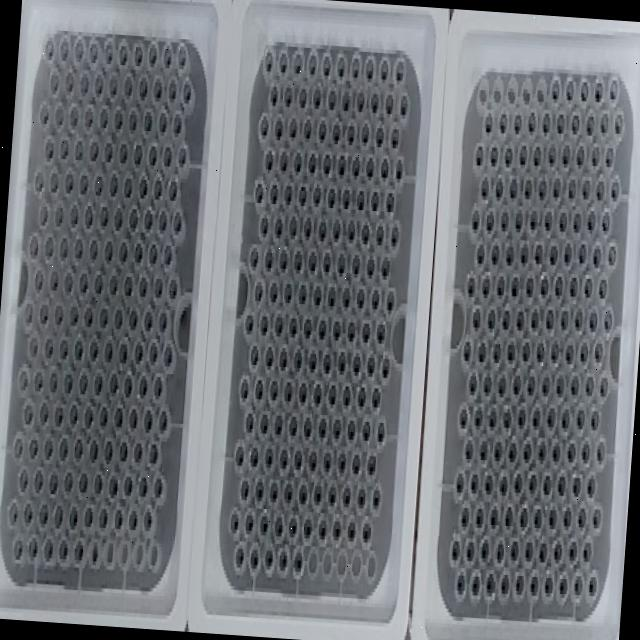pfs: (457, 403, 470, 434), (500, 403, 513, 434), (16, 366, 29, 396), (73, 534, 85, 565), (497, 471, 509, 502), (572, 569, 584, 600), (454, 568, 466, 598), (176, 41, 187, 72), (375, 315, 386, 346), (379, 350, 390, 381), (234, 439, 245, 470), (278, 442, 289, 473), (248, 543, 259, 574), (264, 544, 275, 575), (559, 407, 570, 438), (117, 338, 129, 366), (58, 32, 70, 60), (550, 173, 562, 201), (557, 571, 569, 599), (238, 371, 249, 401), (549, 338, 560, 368), (315, 315, 327, 342), (228, 507, 240, 534), (88, 38, 100, 65), (608, 78, 620, 105), (603, 143, 615, 170), (471, 405, 483, 432), (478, 535, 490, 562), (513, 572, 525, 599), (158, 307, 168, 338), (389, 121, 399, 152), (161, 43, 172, 71), (107, 70, 118, 98), (107, 368, 118, 396), (127, 404, 138, 432), (73, 335, 84, 363), (27, 534, 38, 562), (368, 184, 379, 212), (316, 215, 327, 243), (253, 375, 264, 403), (292, 549, 303, 577), (449, 536, 460, 564), (542, 570, 553, 598), (274, 511, 284, 541), (576, 501, 586, 531), (172, 209, 183, 236), (32, 466, 43, 493), (6, 495, 17, 522), (263, 47, 274, 74), (306, 50, 317, 77), (335, 52, 346, 79), (258, 112, 269, 139), (272, 212, 283, 239), (262, 246, 273, 273), (292, 248, 303, 275), (268, 277, 279, 304), (258, 311, 269, 338), (365, 349, 376, 376), (336, 347, 347, 374), (292, 344, 303, 371), (258, 410, 269, 437), (350, 447, 361, 474), (254, 475, 265, 502), (233, 542, 244, 569), (550, 74, 561, 101), (594, 173, 605, 200), (564, 339, 575, 366), (554, 373, 565, 400), (530, 405, 541, 432), (550, 437, 561, 464), (482, 470, 493, 497), (484, 570, 495, 597), (541, 471, 552, 498), (546, 502, 557, 529), (552, 537, 563, 564), (567, 538, 578, 565), (586, 570, 597, 597), (61, 369, 73, 393), (377, 58, 389, 82), (515, 404, 527, 428), (137, 72, 147, 100), (163, 341, 173, 369), (69, 201, 79, 229), (107, 471, 117, 499), (389, 220, 399, 248), (268, 376, 278, 404), (283, 377, 293, 405), (311, 379, 321, 407), (356, 382, 366, 410), (244, 508, 254, 536), (331, 514, 341, 542), (511, 369, 521, 397), (536, 436, 546, 464), (353, 88, 365, 111), (152, 74, 162, 101), (92, 268, 102, 295), (18, 465, 28, 492), (292, 49, 302, 76), (321, 51, 331, 78), (350, 53, 360, 80), (394, 56, 404, 83), (326, 86, 336, 113), (365, 154, 375, 181), (254, 177, 264, 204), (283, 179, 293, 206), (384, 285, 394, 312), (311, 280, 321, 307), (288, 313, 298, 340), (264, 342, 274, 369), (371, 483, 381, 510), (361, 517, 371, 544), (575, 141, 585, 168), (490, 238, 500, 265), (491, 337, 501, 364), (575, 405, 585, 432), (595, 437, 605, 464), (454, 468, 464, 495), (474, 504, 484, 531), (513, 469, 523, 496), (499, 571, 509, 598), (522, 538, 532, 565), (592, 502, 602, 529), (137, 374, 148, 398), (132, 439, 143, 463), (87, 336, 98, 360), (67, 301, 78, 325), (38, 302, 49, 326), (52, 502, 63, 526), (263, 146, 274, 170), (326, 185, 337, 209), (346, 217, 357, 241), (321, 250, 332, 274), (369, 284, 380, 308), (243, 313, 254, 337), (331, 415, 342, 439), (355, 485, 366, 509), (326, 483, 337, 507), (316, 517, 327, 541), (569, 109, 580, 133), (492, 176, 503, 200), (578, 340, 589, 364), (486, 405, 497, 429), (526, 473, 537, 497), (571, 473, 582, 497), (518, 240, 529, 263), (63, 468, 72, 496), (322, 150, 331, 178), (375, 219, 384, 247), (259, 509, 268, 537), (103, 36, 112, 63), (167, 75, 176, 102), (172, 109, 181, 136), (49, 166, 58, 193), (143, 505, 152, 532), (90, 539, 99, 566), (399, 91, 408, 118), (269, 178, 278, 205), (342, 382, 351, 409), (376, 418, 385, 445), (264, 441, 273, 468), (547, 139, 556, 166), (501, 304, 510, 331), (479, 436, 488, 463), (469, 469, 478, 496), (519, 504, 528, 531), (533, 505, 542, 532), (44, 38, 54, 62), (117, 40, 127, 64), (132, 41, 142, 65), (181, 79, 191, 103), (123, 75, 133, 99), (54, 104, 64, 128), (152, 176, 162, 200), (137, 175, 147, 199), (58, 135, 68, 159), (33, 168, 43, 192), (148, 340, 158, 364), (44, 234, 54, 258), (48, 268, 58, 292), (133, 339, 143, 363), (152, 375, 162, 399), (147, 440, 157, 464), (122, 373, 132, 397), (103, 337, 113, 361), (113, 403, 123, 427), (97, 505, 107, 529), (78, 370, 88, 394), (58, 437, 68, 461), (38, 401, 48, 425), (28, 435, 38, 459), (38, 501, 48, 525), (58, 536, 68, 560), (282, 82, 292, 106), (379, 154, 389, 178), (341, 186, 351, 210), (385, 189, 395, 213), (332, 216, 342, 240), (248, 245, 258, 269), (278, 247, 288, 271), (326, 284, 336, 308), (351, 351, 361, 375), (307, 348, 317, 372), (249, 344, 259, 368), (298, 382, 308, 406), (317, 414, 327, 438), (244, 409, 254, 433), (298, 481, 308, 505), (239, 477, 249, 501), (346, 519, 356, 543), (527, 110, 537, 134), (474, 144, 484, 168), (522, 175, 532, 199), (495, 272, 505, 296), (538, 272, 548, 296), (559, 307, 569, 331), (515, 308, 525, 332), (535, 340, 545, 364), (546, 406, 556, 430), (580, 439, 590, 463), (507, 438, 517, 462), (493, 440, 503, 464), (464, 438, 474, 462), (488, 505, 498, 529), (509, 537, 519, 561), (538, 539, 548, 563), (582, 539, 592, 563), (529, 573, 539, 597), (38, 103, 49, 124), (81, 404, 92, 425), (73, 137, 83, 160), (128, 206, 138, 229), (48, 471, 58, 494), (375, 124, 385, 147), (332, 316, 342, 339), (360, 318, 370, 341), (283, 480, 293, 503), (545, 307, 555, 330), (465, 538, 475, 561), (470, 572, 480, 595), (466, 273, 475, 298), (109, 269, 117, 297), (278, 48, 288, 70), (307, 448, 317, 470), (148, 42, 157, 66), (94, 73, 103, 97), (79, 72, 88, 96), (65, 67, 74, 91), (49, 70, 58, 94), (83, 103, 92, 127), (143, 110, 152, 134), (177, 144, 186, 168), (168, 177, 177, 201), (148, 241, 157, 265), (148, 142, 157, 166), (79, 171, 88, 195), (109, 173, 118, 197), (123, 174, 132, 198), (133, 240, 142, 264), (138, 275, 147, 299), (153, 272, 162, 296), (118, 239, 127, 263), (99, 203, 108, 227), (39, 203, 48, 227), (28, 233, 37, 257), (23, 301, 32, 325), (59, 235, 68, 259), (103, 238, 112, 262), (138, 473, 147, 497), (123, 472, 132, 496), (103, 437, 112, 461), (153, 474, 162, 498), (113, 506, 122, 530), (93, 371, 102, 395), (78, 469, 87, 493), (93, 470, 102, 494), (83, 504, 92, 528), (74, 438, 83, 462), (44, 436, 53, 460), (13, 434, 22, 458), (13, 537, 22, 561), (365, 57, 374, 81), (385, 90, 393, 117), (298, 183, 307, 207), (356, 187, 365, 211), (308, 249, 317, 273), (337, 251, 346, 275), (365, 253, 374, 277), (380, 254, 389, 278), (341, 285, 350, 309), (322, 349, 331, 373), (278, 346, 287, 370), (327, 384, 336, 408), (361, 417, 370, 441), (303, 416, 312, 440), (337, 450, 346, 474), (366, 452, 375, 476), (342, 484, 351, 508), (313, 482, 322, 506), (269, 479, 278, 503), (303, 516, 312, 540), (74, 37, 83, 61), (565, 78, 574, 102), (579, 79, 588, 103), (594, 80, 603, 104), (542, 111, 551, 135), (490, 145, 499, 169), (503, 142, 512, 166), (610, 177, 619, 201), (567, 174, 576, 198), (480, 175, 489, 199), (471, 209, 480, 233), (543, 207, 552, 231), (558, 208, 567, 232), (592, 245, 601, 269), (481, 271, 490, 295), (510, 273, 519, 297), (569, 274, 578, 298), (574, 309, 583, 333), (486, 306, 495, 330), (472, 305, 481, 329), (462, 338, 471, 362), (482, 371, 491, 395), (522, 439, 531, 463), (459, 503, 468, 527), (587, 474, 596, 498), (563, 507, 572, 531), (98, 107, 108, 128), (158, 111, 168, 132), (113, 307, 123, 328), (98, 306, 108, 327), (360, 122, 370, 143), (297, 282, 307, 303), (498, 111, 508, 132), (528, 209, 538, 230), (468, 373, 478, 394), (133, 141, 142, 164), (123, 274, 132, 297), (63, 270, 72, 293), (79, 271, 88, 294), (54, 403, 63, 426), (370, 89, 379, 112), (312, 85, 321, 108), (279, 147, 288, 170), (312, 181, 321, 204), (303, 214, 312, 237), (274, 311, 283, 334), (303, 314, 312, 337), (614, 113, 623, 136), (518, 144, 527, 167), (500, 208, 509, 231), (601, 208, 610, 231), (530, 305, 539, 328), (495, 539, 504, 562), (58, 338, 68, 358), (32, 370, 42, 390), (28, 336, 38, 356), (23, 404, 33, 424), (555, 112, 565, 132), (594, 341, 604, 361), (566, 442, 576, 462), (103, 139, 112, 161), (270, 82, 279, 104), (586, 111, 595, 133), (557, 472, 566, 494), (65, 170, 73, 194), (94, 172, 102, 196), (74, 236, 82, 260), (89, 237, 97, 261), (119, 438, 127, 462), (274, 116, 282, 140), (303, 115, 311, 139), (332, 120, 340, 144), (347, 121, 355, 145), (361, 222, 369, 246), (289, 213, 297, 237), (351, 252, 359, 276), (254, 279, 262, 303), (372, 387, 380, 411), (278, 548, 286, 572), (484, 110, 492, 134), (572, 209, 580, 233), (525, 274, 533, 298), (599, 276, 607, 300), (604, 307, 612, 331), (504, 506, 512, 530), (113, 108, 122, 129), (163, 245, 172, 266), (83, 305, 92, 326), (89, 439, 98, 460), (53, 303, 62, 324), (23, 503, 32, 524), (288, 117, 297, 138), (356, 286, 365, 307), (346, 419, 355, 440), (288, 415, 297, 436), (322, 452, 331, 473), (599, 111, 608, 132), (591, 145, 600, 166), (549, 245, 558, 266), (505, 245, 514, 266), (570, 373, 579, 394), (497, 375, 506, 396), (590, 409, 599, 430), (341, 87, 349, 110), (394, 156, 402, 179), (337, 152, 345, 175), (347, 317, 355, 340), (582, 176, 590, 199), (478, 340, 486, 363), (144, 210, 153, 230), (118, 143, 127, 163), (54, 204, 63, 224), (128, 507, 137, 527), (99, 406, 108, 426), (43, 539, 52, 559), (351, 156, 360, 176), (307, 153, 316, 173), (293, 152, 302, 172), (249, 447, 258, 467), (288, 515, 297, 535), (563, 243, 572, 263), (585, 375, 594, 395), (541, 375, 550, 395), (526, 374, 535, 394), (69, 105, 78, 124), (283, 281, 292, 300), (513, 112, 522, 131), (514, 208, 523, 227), (163, 146, 171, 167), (143, 309, 151, 330), (69, 506, 77, 527), (69, 403, 77, 424), (318, 119, 326, 140), (562, 143, 570, 164), (538, 179, 546, 200), (509, 177, 517, 198), (587, 210, 595, 231), (554, 276, 562, 297), (600, 375, 608, 396), (507, 341, 515, 362), (522, 339, 530, 360), (159, 211, 167, 231), (90, 141, 98, 161), (45, 138, 53, 158), (168, 277, 176, 297), (114, 208, 122, 228), (84, 206, 92, 226), (34, 271, 42, 291), (159, 410, 167, 430), (144, 409, 152, 429), (44, 337, 52, 357), (260, 215, 268, 235), (533, 145, 541, 165), (486, 210, 494, 230), (608, 246, 616, 266), (578, 244, 586, 264), (589, 310, 597, 330), (129, 308, 137, 327), (274, 414, 282, 433), (476, 243, 484, 262), (50, 371, 57, 392), (299, 87, 306, 108), (534, 244, 541, 265), (129, 109, 136, 129), (294, 450, 301, 470), (584, 279, 592, 295)
